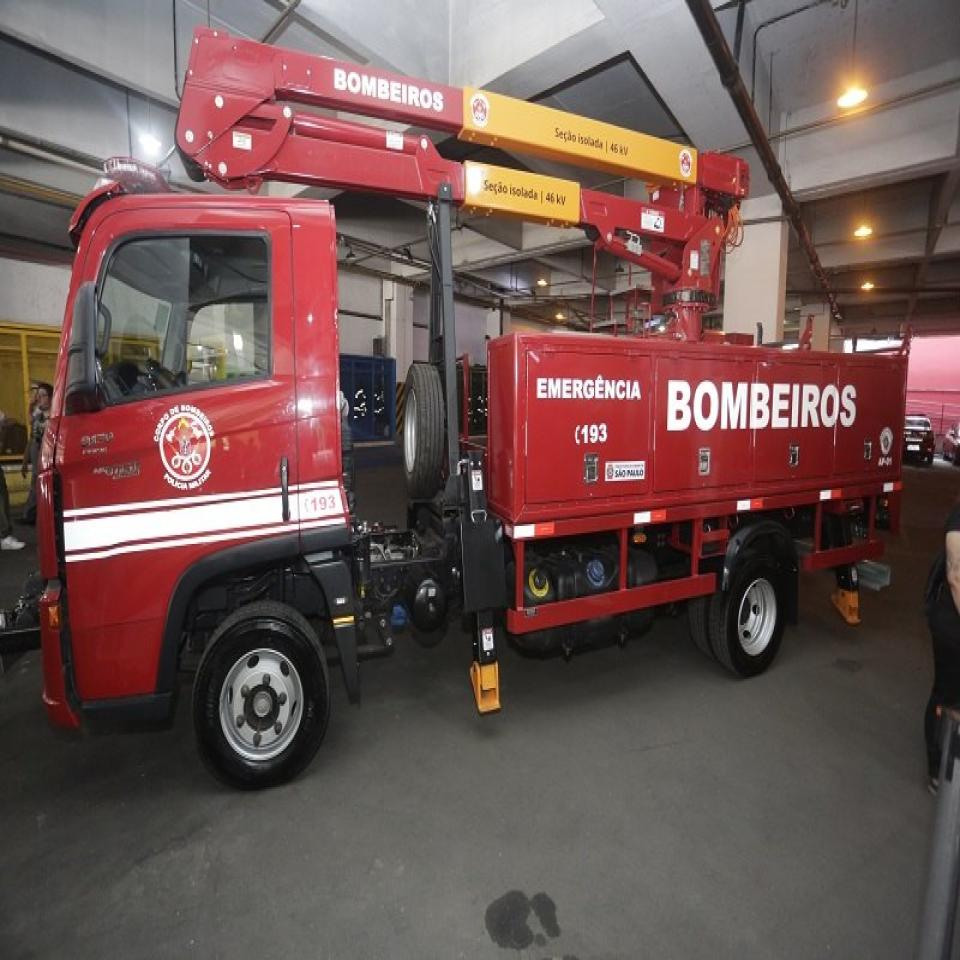viatura: (36, 28, 910, 794)
